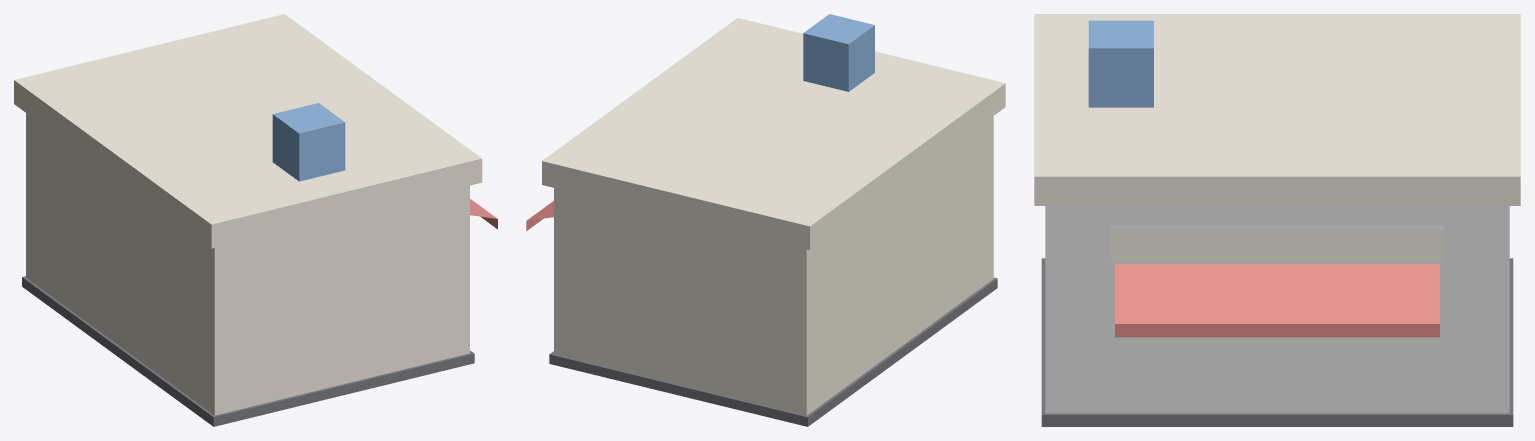
File: Bldg_G.fbx
3 renders of one model, left to right at view 1: azimuth 30°, elevation 25°; view 2: azimuth 150°, elevation 25°; view 3: azimuth 270°, elevation 25°, orthographic. The views are drawn at different scales.
Visible parts, largest first — view 1: Bldg_G; view 2: Bldg_G; view 3: Bldg_G.
Part boxes in pixels (x1,y1,x2,y2): Bldg_G: (14, 14, 497, 426); Bldg_G: (526, 14, 1005, 426); Bldg_G: (1034, 14, 1520, 426).
Size of the model in its own units: 6.25 by 4.75 by 6.7.
